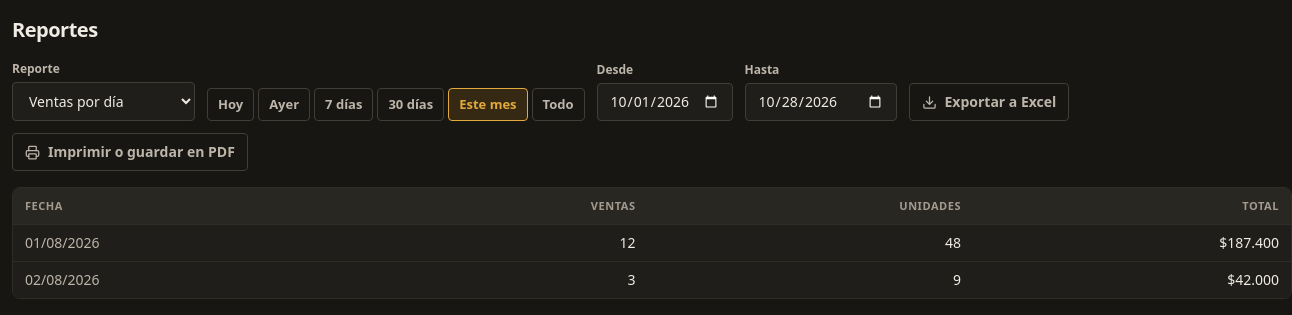
exportar e imprimir › guarda el archivo donde el usuario diga y lo avisa
The image size is (1292, 315).
(page scrolled)
Expected: the heading "Reportes" is shown, [12,16,98,43]
Expected: the column heading "Fecha" is shown, [13,188,387,224]
Click the button "Exportar a Excel": (989, 102) [908,83,1069,121]
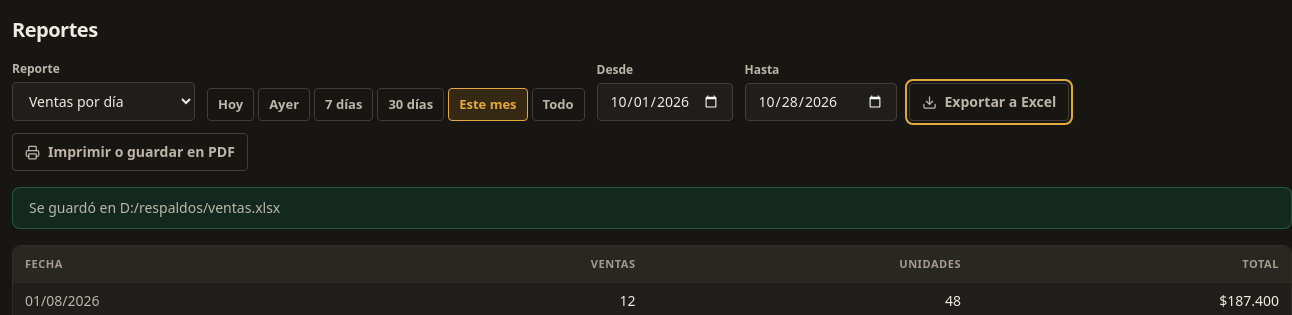
Result: the text "Se guardó en D:/respaldos/ventas.xlsx" is shown at [12,187,1291,229]
